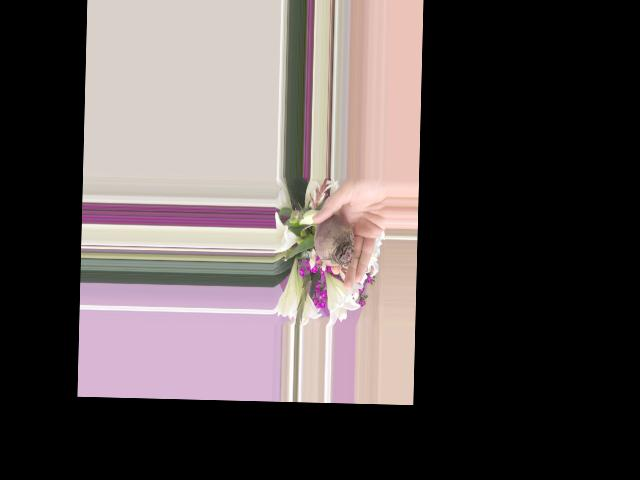beet: (301, 213, 355, 267)
